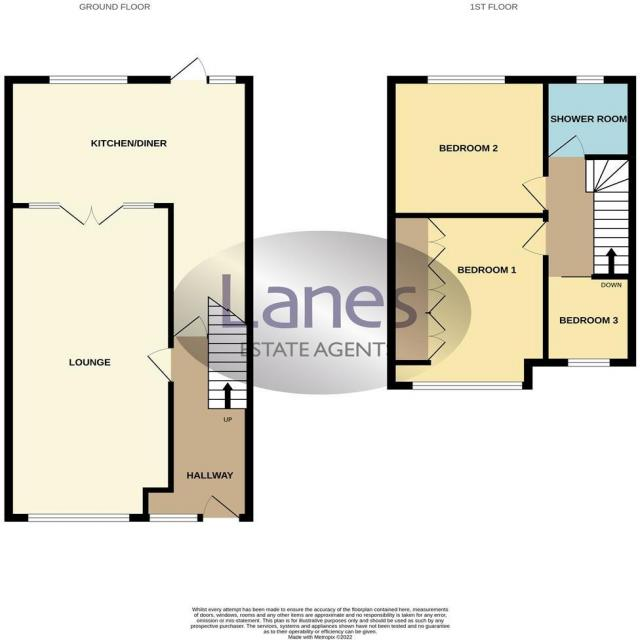DOOR: (519, 174, 550, 213), (169, 55, 209, 85), (519, 219, 549, 257), (547, 132, 586, 161), (202, 493, 240, 522), (144, 347, 174, 383), (172, 312, 209, 340)
DOUBLE DOOR: (57, 199, 124, 231)
ROOM: (4, 56, 255, 341), (4, 202, 174, 523), (386, 213, 550, 390), (387, 74, 549, 219), (543, 273, 637, 367)
WINDOW: (411, 380, 523, 391), (26, 512, 131, 523), (425, 74, 507, 86), (48, 75, 129, 85), (149, 512, 200, 523), (575, 74, 605, 85), (27, 201, 61, 210), (122, 201, 156, 210), (208, 75, 237, 84)
